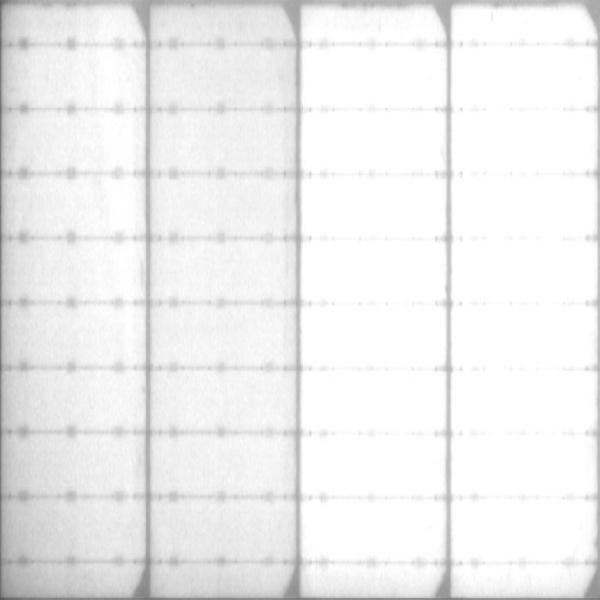hot_spot: (459, 309, 590, 365), (307, 373, 437, 429), (456, 49, 589, 103), (456, 437, 588, 490), (316, 305, 442, 360), (322, 503, 442, 559), (456, 377, 595, 425), (461, 244, 584, 298), (461, 182, 585, 235), (459, 116, 584, 168), (311, 182, 440, 232), (314, 247, 438, 298), (310, 441, 434, 492), (311, 53, 439, 102), (307, 120, 439, 166), (466, 511, 590, 554)
